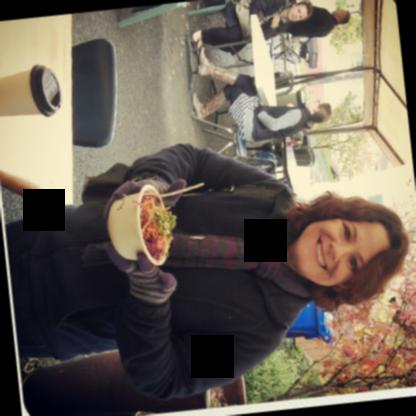handbag: (80, 162, 281, 203), (229, 0, 282, 40)
